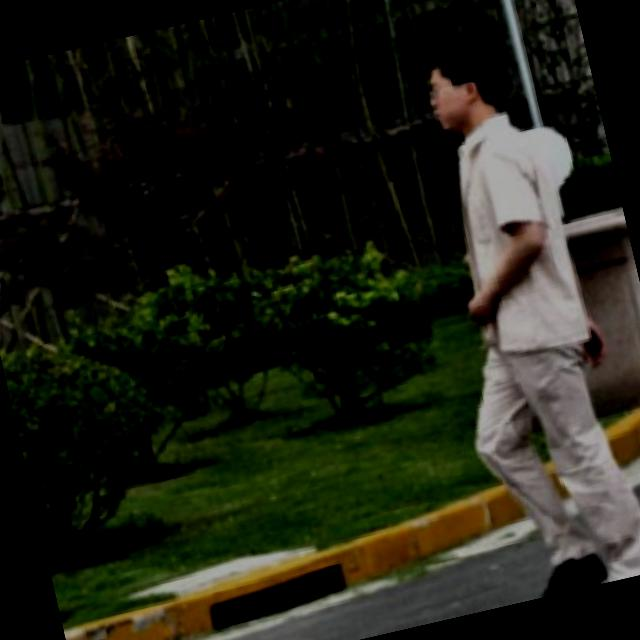Person: (388, 19, 640, 602)
